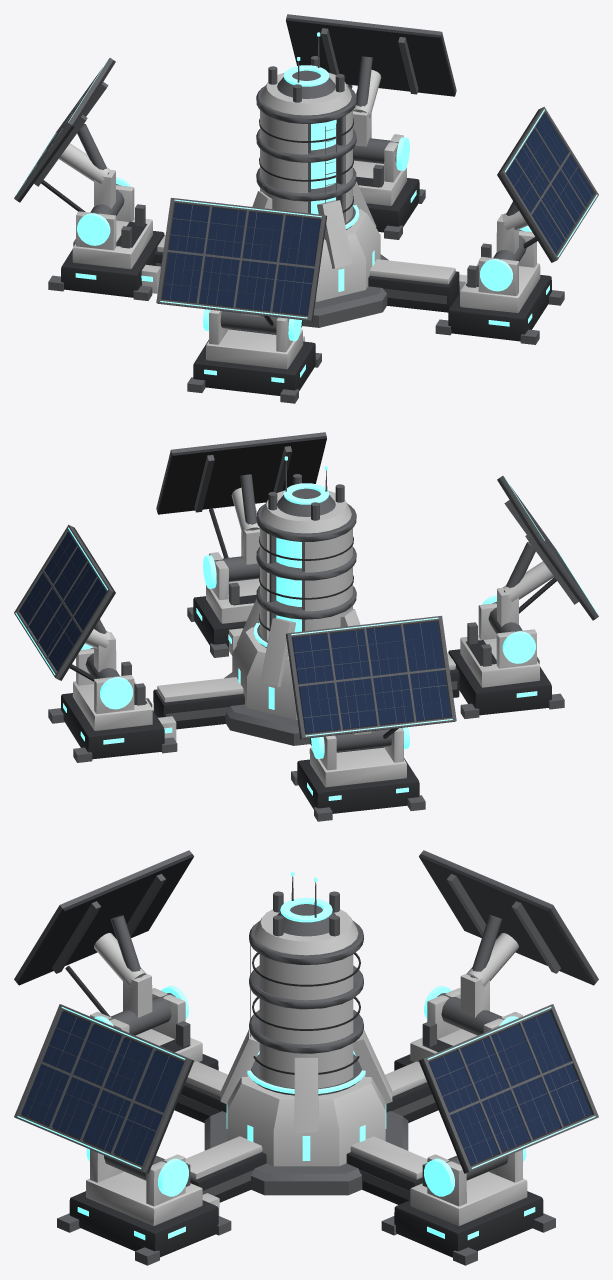
The model's file is sb_power_t1.glb.
The picture shows the model from 3 angles, top to bottom: view 1: azimuth 30°, elevation 25°; view 2: azimuth 150°, elevation 25°; view 3: azimuth 270°, elevation 25°; orthographic projection. The views are drawn at different scales.
Parts seen in each view (by area): view 1: SM_PWR_BODY, SM_PWR_LIGHTS; view 2: SM_PWR_BODY, SM_PWR_LIGHTS; view 3: SM_PWR_BODY, SM_PWR_LIGHTS.
Part boxes in pixels (bbox=[...]): SM_PWR_BODY: bbox=[14, 14, 598, 403]; SM_PWR_LIGHTS: bbox=[15, 32, 597, 382]; SM_PWR_BODY: bbox=[14, 432, 598, 821]; SM_PWR_LIGHTS: bbox=[15, 456, 597, 800]; SM_PWR_BODY: bbox=[14, 850, 598, 1265]; SM_PWR_LIGHTS: bbox=[17, 871, 595, 1240].
Size of the model in its own units: 38.25 by 21.05 by 38.25.
